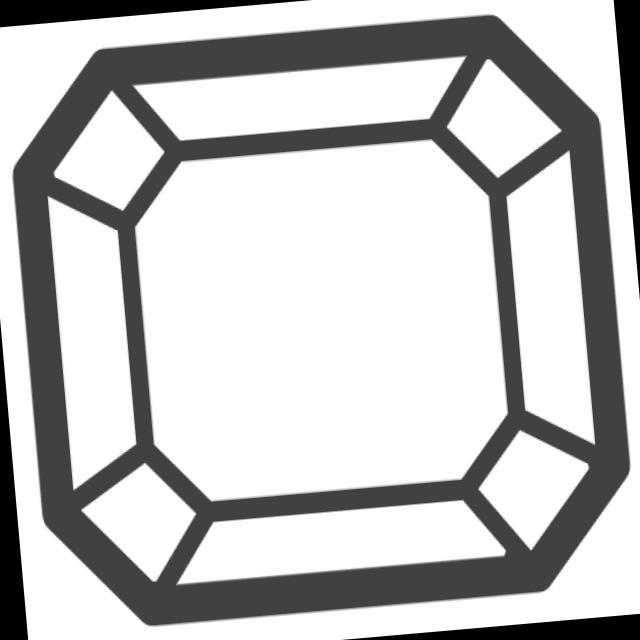emerald: (1, 2, 640, 640)
